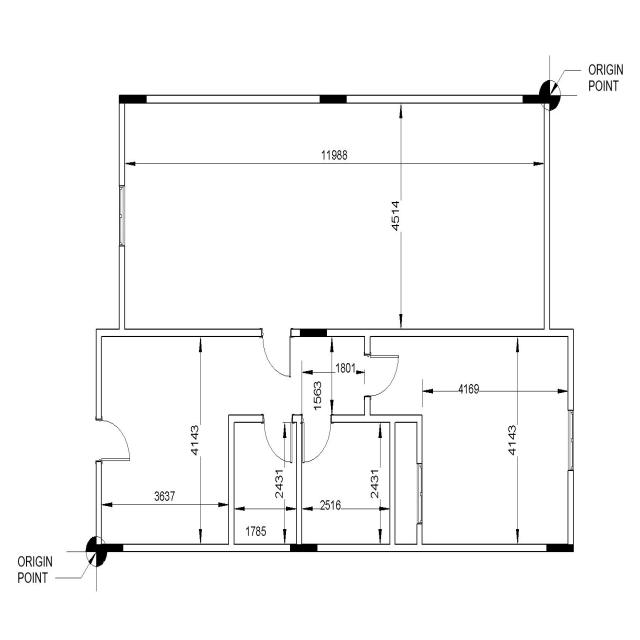Column: (119, 94, 148, 104), (289, 543, 318, 553), (319, 94, 347, 104), (522, 95, 551, 104), (299, 329, 327, 338), (546, 543, 574, 552), (96, 545, 124, 552)
Door: (94, 412, 133, 475), (256, 329, 296, 384), (259, 415, 295, 470), (367, 351, 401, 401), (301, 417, 333, 466)
Window: (564, 405, 577, 477), (116, 180, 128, 252), (414, 456, 424, 530)
